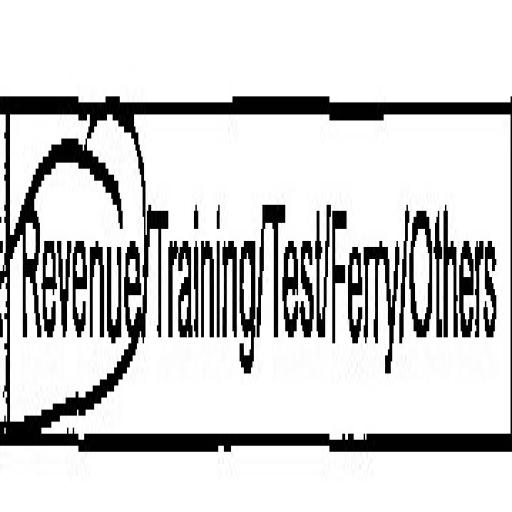check: (2, 11, 148, 495)
